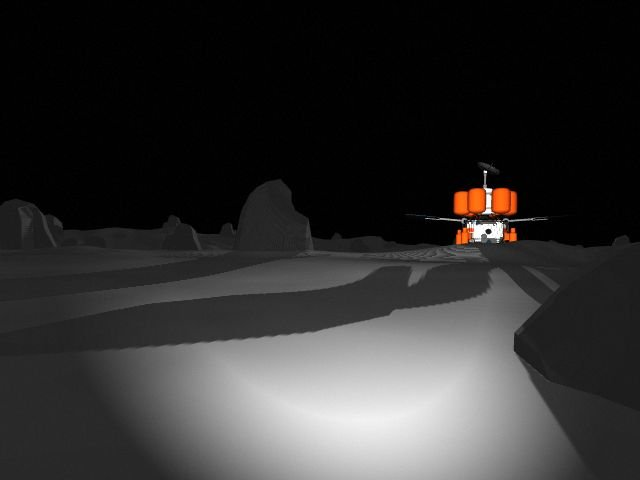homebase: (402, 160, 562, 259)
